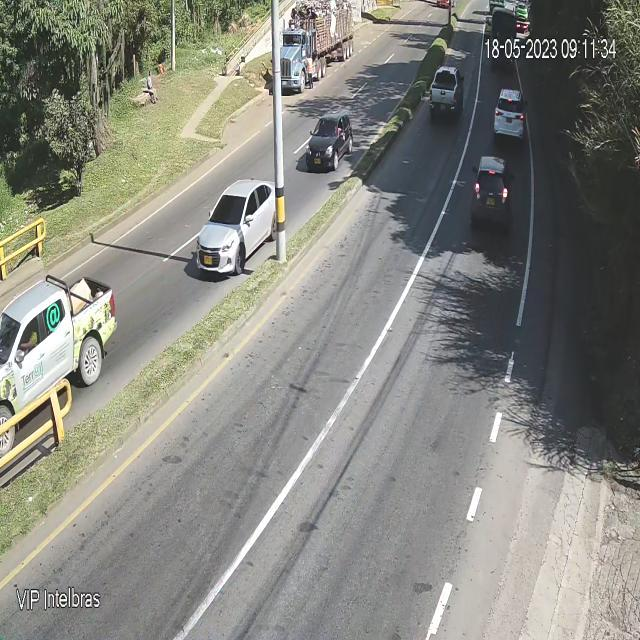CMT: (0, 276, 125, 458), (428, 63, 470, 115)
